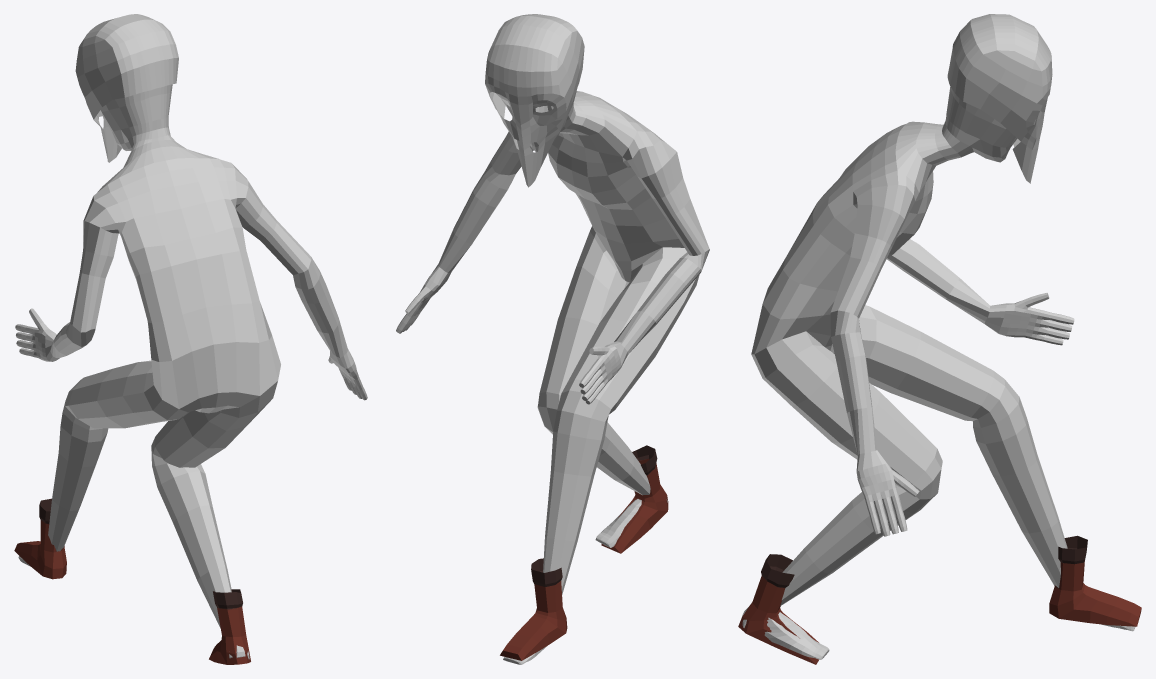
The model's file is saltoadelante_000136.obj.
3 renders of one model, left to right at view 1: azimuth 30°, elevation 25°; view 2: azimuth 150°, elevation 25°; view 3: azimuth 270°, elevation 25°, orthographic. The views are drawn at different scales.
Visible parts, largest first — view 1: Plane.002_Plane.001, Plane.003, Plane.004; view 2: Plane.002_Plane.001, Plane.004, Plane.003; view 3: Plane.002_Plane.001, Plane.004, Plane.003.
Part boxes in pixels (x1,y1,x2,y2): Plane.002_Plane.001: (15,14,367,659); Plane.003: (209,589,250,664); Plane.004: (14,498,66,579); Plane.002_Plane.001: (396,14,709,664); Plane.004: (500,558,567,660); Plane.003: (601,445,668,553); Plane.002_Plane.001: (742,14,1135,659); Plane.004: (1049,535,1141,626); Plane.003: (738,554,818,664).
Size of the model in its own units: 3.01 by 5.65 by 3.26.
